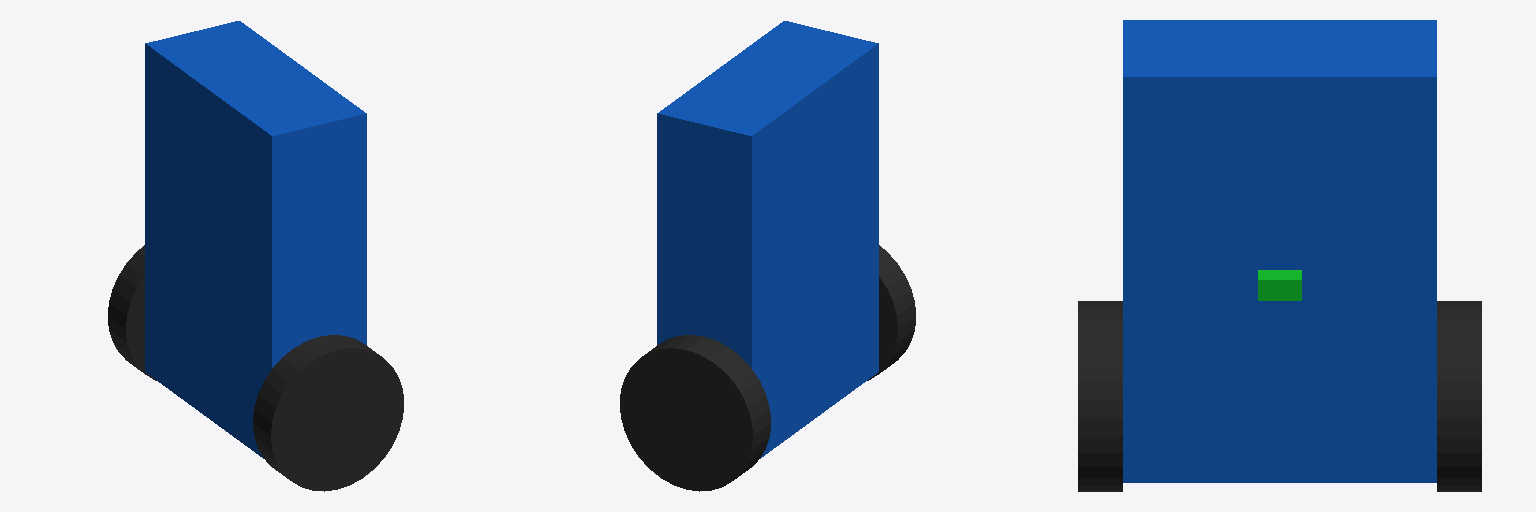
robot.urdf — balancebot:
<?xml version="1.0"?>
<robot name="balancebot">

  <material name="blue">
    <color rgba="0.1 0.4 0.8 1.0"/>
  </material>
  <material name="dark_grey">
    <color rgba="0.2 0.2 0.2 1.0"/>
  </material>
  <material name="green">
    <color rgba="0.1 0.8 0.2 1.0"/>
  </material>

  <!-- ═══════════════════════════════════
       CHASSIS
       Origin is now at WHEEL AXLE level
       (not geometric centre of box)

       Box is 0.20m tall:
         bottom = -0.0575m below axle  (axle sits 5.75cm from bottom)
         top    = +0.1425m above axle

       Why axle at origin?
         spawn_height = wheel_radius = 0.0425m
         wheel bottom = 0.0425 - 0.0425 = 0.0  (exactly ground)
         Simple. No math needed in scripts.
  ═══════════════════════════════════════ -->
  <link name="base_link">
    <inertial>
      <mass value="0.5"/>
      <origin xyz="0 0 0.0713"/>
      <!-- CoM is at geometric centre of box = 0.10 - 0.0575 = 0.0425m
           above axle. Using 0.0713 to account for battery weight higher up -->
      <inertia ixx="0.00183" ixy="0.0" ixz="0.0"
               iyy="0.00248" iyz="0.0"
               izz="0.000967"/>
    </inertial>
    <visual>
      <origin xyz="0 0 0.0713"/>
      <!-- Visual box centred at geometric centre of box above axle -->
      <geometry>
        <box size="0.06 0.14 0.20"/>
      </geometry>
      <material name="blue"/>
    </visual>
    <collision>
      <origin xyz="0 0 0.0713"/>
      <geometry>
        <box size="0.06 0.14 0.20"/>
      </geometry>
    </collision>
  </link>

  <!-- ═══════════════════════════════════
       IMU at body centre
       Z = 0.0713 (geometric centre of box)
  ═══════════════════════════════════════ -->
  <link name="imu_link">
    <inertial>
      <mass value="0.001"/>
      <inertia ixx="0.000001" ixy="0.0" ixz="0.0"
               iyy="0.000001" iyz="0.0"
               izz="0.000001"/>
    </inertial>
    <visual>
      <geometry>
        <box size="0.02 0.02 0.01"/>
      </geometry>
      <material name="green"/>
    </visual>
    <collision>
      <geometry>
        <box size="0.001 0.001 0.001"/>
      </geometry>
    </collision>
  </link>

  <joint name="imu_joint" type="fixed">
    <parent link="base_link"/>
    <child link="imu_link"/>
    <!-- Front face of box, at geometric centre height -->
    <origin xyz="0.031 0.0 0.0713" rpy="0 0 0"/>
  </joint>

  <!-- ═══════════════════════════════════
       LEFT WHEEL
       Origin = wheel axle = base_link origin
       So wheel joint Z = 0.0 (axle level)
       Y = +0.08 (half body width + half tyre width)
  ═══════════════════════════════════════ -->
  <link name="left_wheel">
    <inertial>
      <mass value="0.05"/>
      <inertia ixx="0.0000243" ixy="0.0" ixz="0.0"
               iyy="0.0000243" iyz="0.0"
               izz="0.0000452"/>
    </inertial>
    <visual>
      <geometry>
        <cylinder radius="0.0425" length="0.02"/>
      </geometry>
      <material name="dark_grey"/>
    </visual>
    <collision>
      <geometry>
        <cylinder radius="0.0425" length="0.02"/>
      </geometry>
    </collision>
  </link>

  <joint name="left_wheel_joint" type="continuous">
    <parent link="base_link"/>
    <child link="left_wheel"/>
    <!-- Z=0.0 = axle level, Y=+0.08 = left side -->
    <origin xyz="0.0 0.08 0.0" rpy="1.5708 0 0"/>
    <axis xyz="0 0 1"/>
    <dynamics damping="0.01" friction="0.01"/>
  </joint>

  <!-- ═══════════════════════════════════
       RIGHT WHEEL
       Mirror of left: Y = -0.08
  ═══════════════════════════════════════ -->
  <link name="right_wheel">
    <inertial>
      <mass value="0.05"/>
      <inertia ixx="0.0000243" ixy="0.0" ixz="0.0"
               iyy="0.0000243" iyz="0.0"
               izz="0.0000452"/>
    </inertial>
    <visual>
      <geometry>
        <cylinder radius="0.0425" length="0.02"/>
      </geometry>
      <material name="dark_grey"/>
    </visual>
    <collision>
      <geometry>
        <cylinder radius="0.0425" length="0.02"/>
      </geometry>
    </collision>
  </link>

  <joint name="right_wheel_joint" type="continuous">
    <parent link="base_link"/>
    <child link="right_wheel"/>
    <!-- Z=0.0 = axle level, Y=-0.08 = right side -->
    <origin xyz="0.0 -0.08 0.0" rpy="1.5708 0 0"/>
    <axis xyz="0 0 1"/>
    <dynamics damping="0.01" friction="0.01"/>
  </joint>

</robot>

--- Facts derived from the render (not from the file) ---
3 views of the same robot in one strip: view 1: azimuth 30°, elevation 25°; view 2: azimuth 150°, elevation 25°; view 3: azimuth 270°, elevation 25° (orthographic).
Robot: balancebot — 4 links, 3 joints (2 continuous, 1 fixed); root link base_link; default pose: every joint at zero.
Links seen in each view (by area): view 1: base_link, right_wheel, left_wheel; view 2: base_link, left_wheel, right_wheel; view 3: base_link, left_wheel, right_wheel, imu_link.
Boxes of the visible links, left/top/right/bottom form: base_link: left=145, top=21, right=366, bottom=458; right_wheel: left=253, top=335, right=403, bottom=491; left_wheel: left=108, top=245, right=156, bottom=380; base_link: left=657, top=21, right=878, bottom=458; left_wheel: left=620, top=335, right=770, bottom=491; right_wheel: left=867, top=245, right=915, bottom=380; base_link: left=1123, top=20, right=1436, bottom=482; left_wheel: left=1437, top=301, right=1481, bottom=491; right_wheel: left=1078, top=301, right=1122, bottom=491; imu_link: left=1258, top=270, right=1301, bottom=300.
Size in the robot's own frame: 0.085 by 0.18 by 0.2138 metres.
Geometry: primitives only (box / cylinder / sphere), no mesh files.
